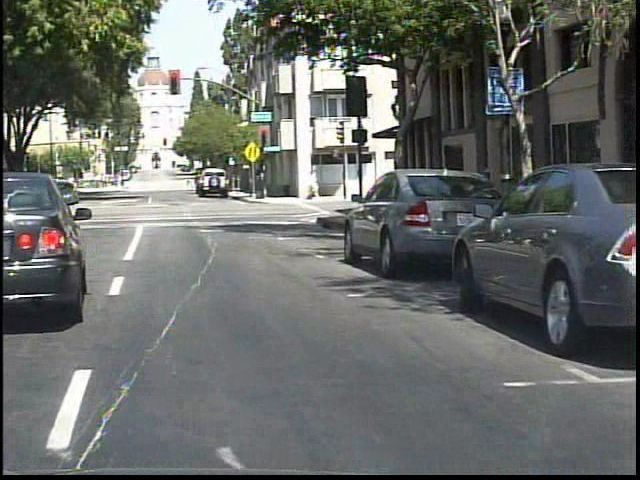person: (12, 172, 33, 211), (2, 175, 4, 212)
